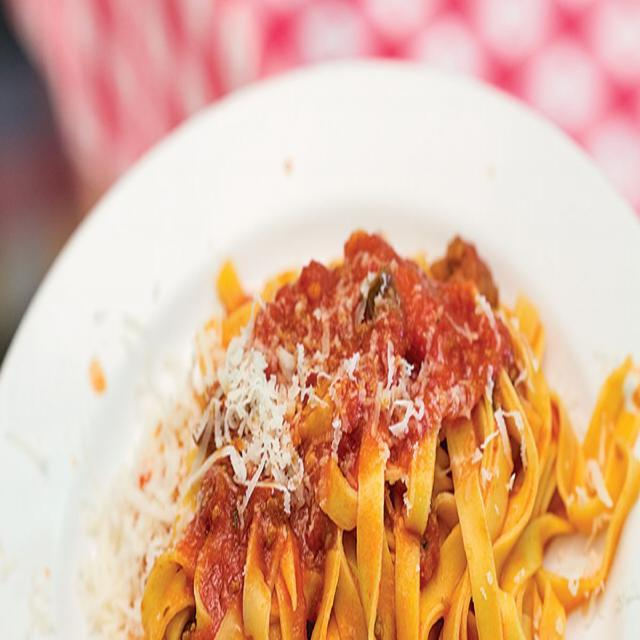Pasta al ragu: (125, 114, 639, 631)
